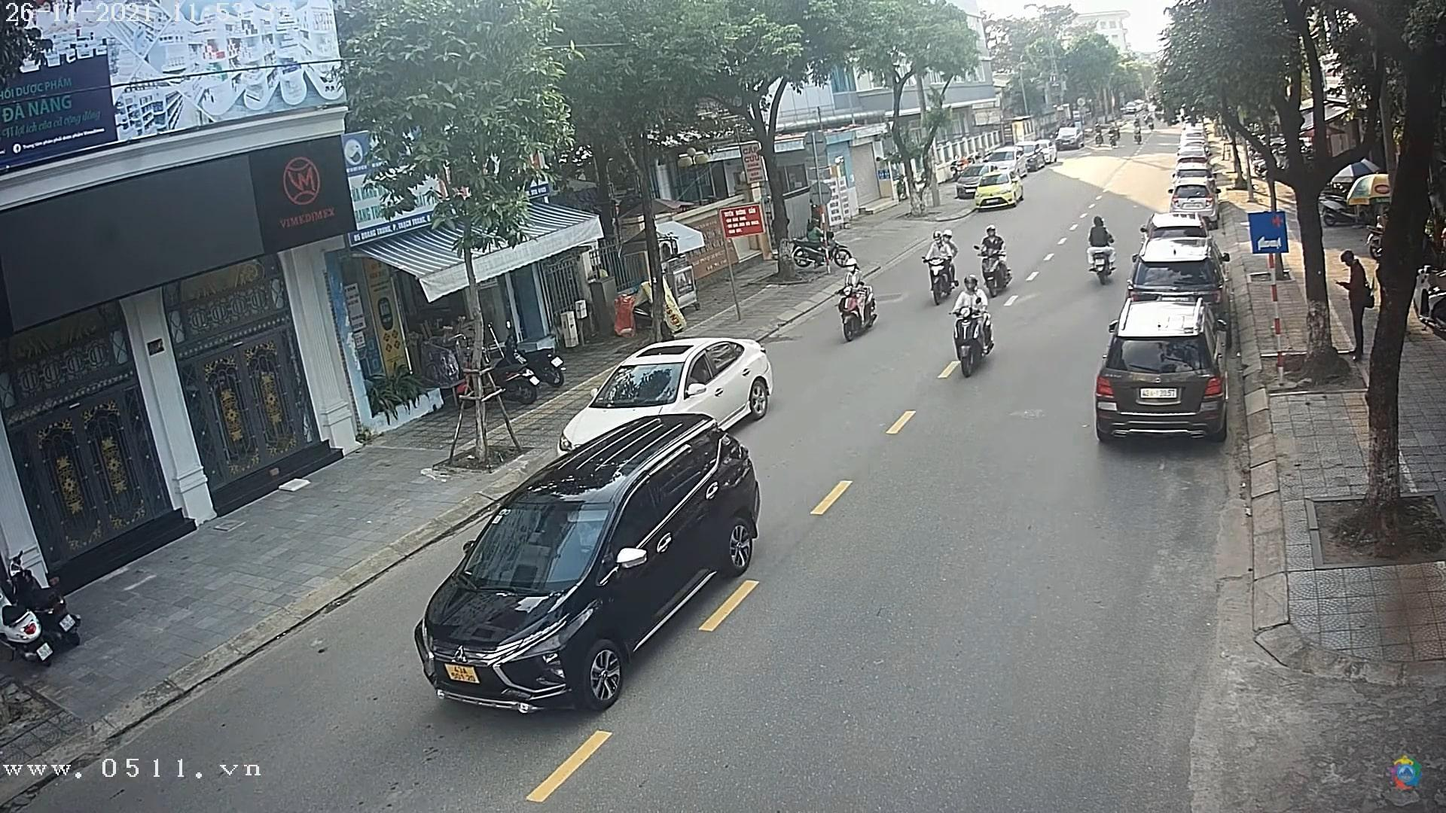car: (418, 412, 769, 718), (564, 338, 777, 447), (1096, 321, 1226, 445), (1130, 238, 1225, 302), (1058, 126, 1087, 148)
motorbike: (953, 315, 1000, 386), (834, 283, 880, 345), (921, 251, 960, 307), (980, 245, 1015, 296), (1083, 239, 1118, 282)
